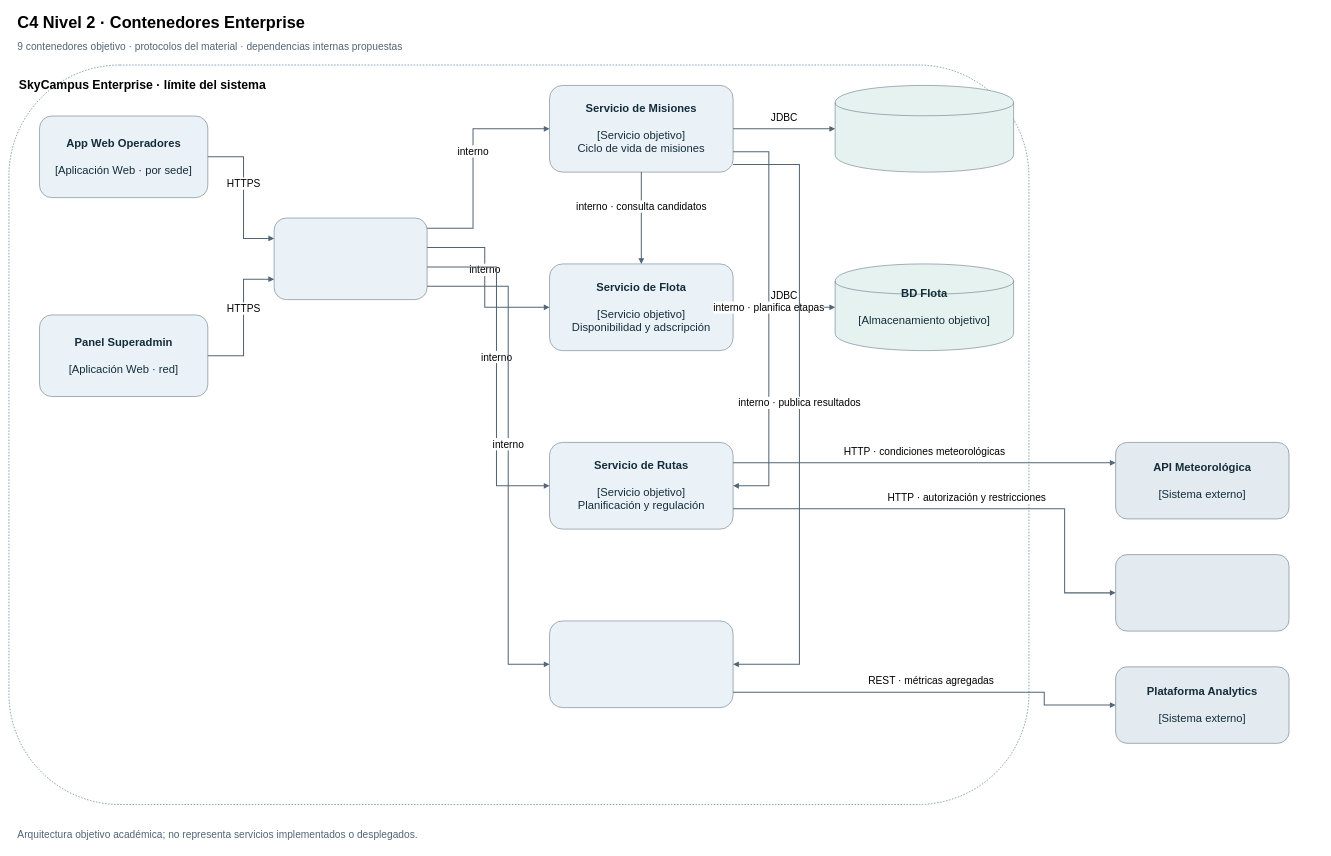
The diagram is 1331 pixels wide and 856 high, and some of its shapes have lost their labels. Here are the shapes that lost their labels. From the top down, the centre of each, then its label:
At (x=924, y=128): "BD Misiones [Almacenamiento objetivo]".
At (x=350, y=259): "API Gateway [Contenedor] Entrada común de clientes".
At (x=1202, y=592): "Aerocivil [Sistema externo]".
At (x=641, y=664): "Servicio de Analytics [Servicio objetivo] Agregación por sede".
